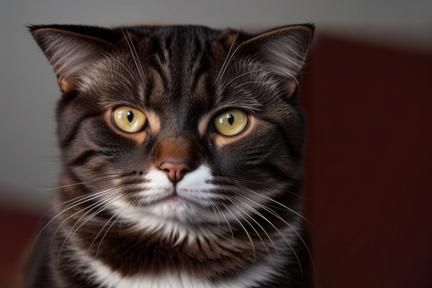cat: (21, 24, 314, 288)
